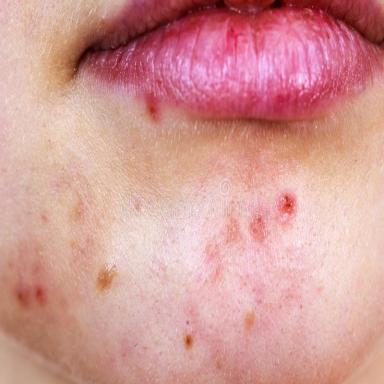acne: (277, 192, 296, 216), (223, 218, 240, 243), (249, 219, 267, 242), (145, 98, 160, 120), (17, 283, 29, 306), (35, 285, 46, 303)
